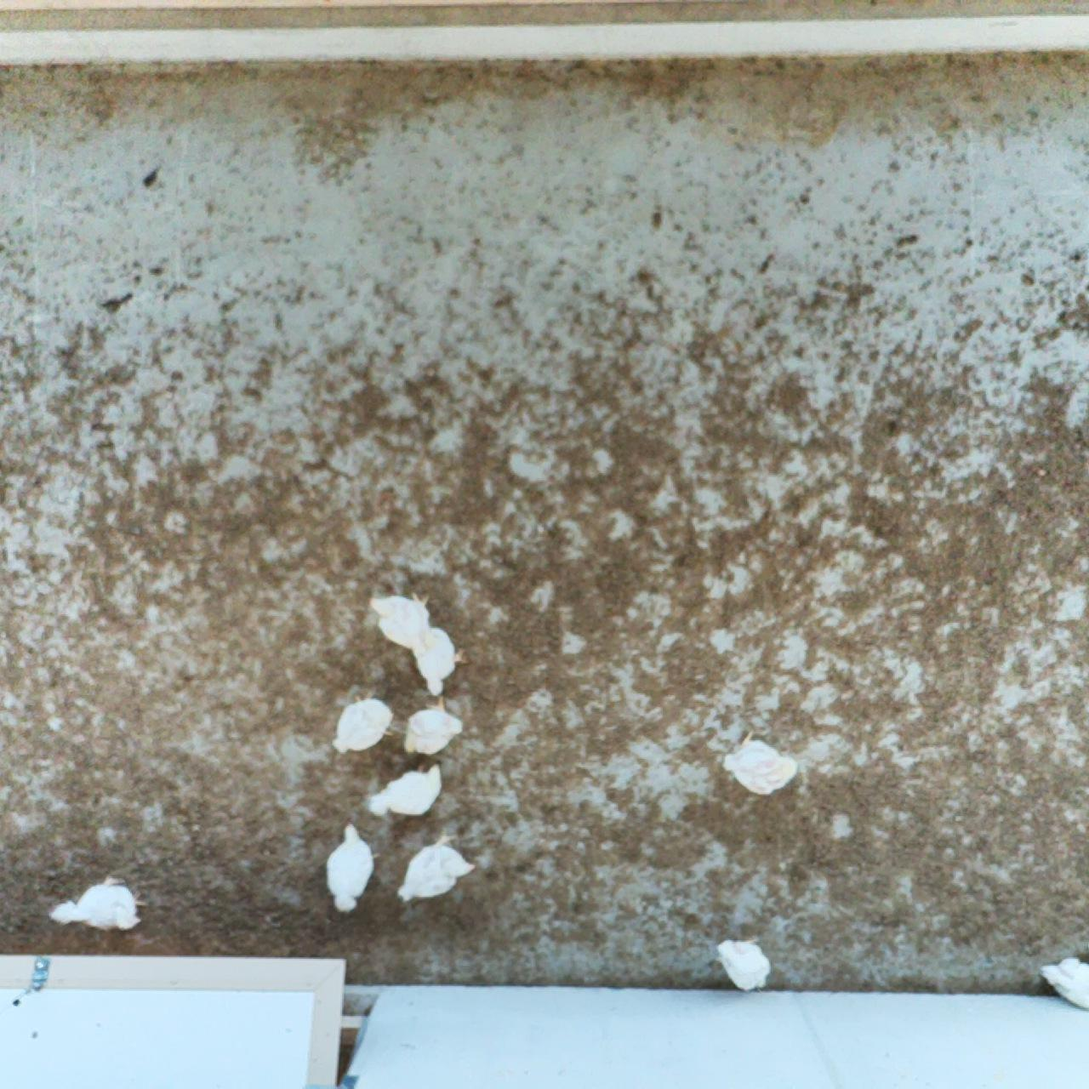chicken: (393, 828, 480, 903), (48, 872, 148, 929), (322, 824, 382, 915), (365, 755, 449, 819), (721, 732, 798, 797), (328, 693, 396, 757), (409, 623, 467, 698), (403, 698, 466, 758), (369, 592, 433, 650), (716, 934, 771, 998), (1038, 948, 1089, 1011)
